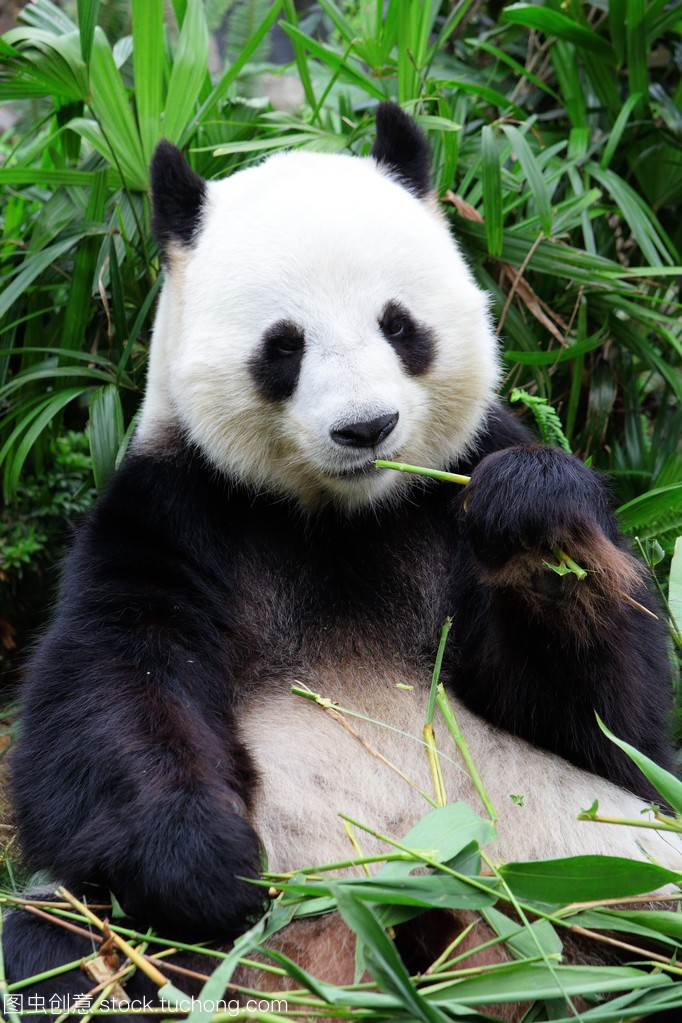panda: (44, 105, 682, 941)
